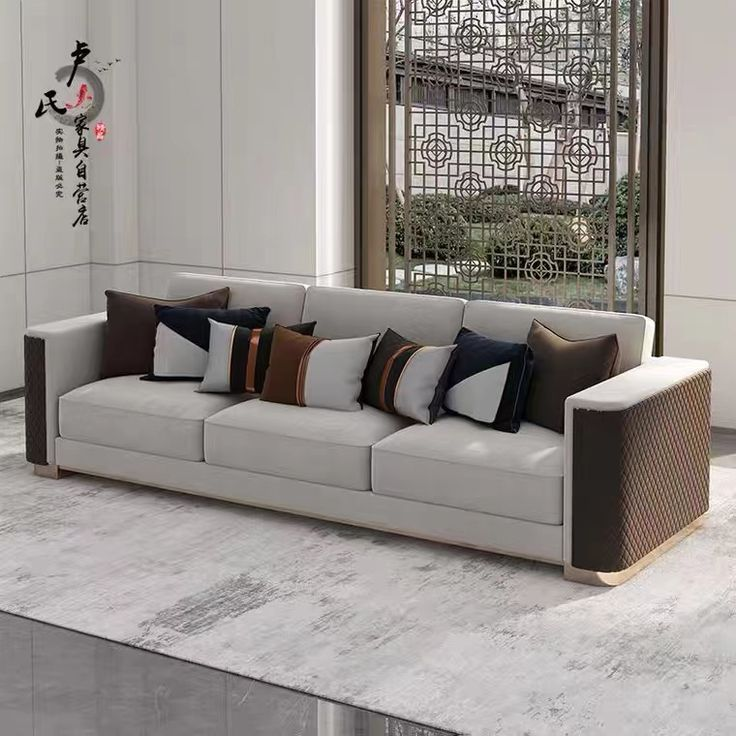3seatersofa: (26, 273, 709, 583)
backrest: (168, 273, 652, 371)
base: (59, 438, 561, 562)
leftarmrest: (564, 358, 710, 571)
leg: (565, 517, 702, 586), (34, 465, 69, 479)
pillow: (102, 287, 229, 377), (526, 320, 619, 432), (260, 326, 377, 410), (444, 328, 532, 431), (146, 306, 269, 379), (364, 328, 454, 423), (199, 319, 272, 392), (287, 323, 315, 335)
rightarmrest: (26, 313, 105, 470)
seat: (60, 376, 563, 524)
